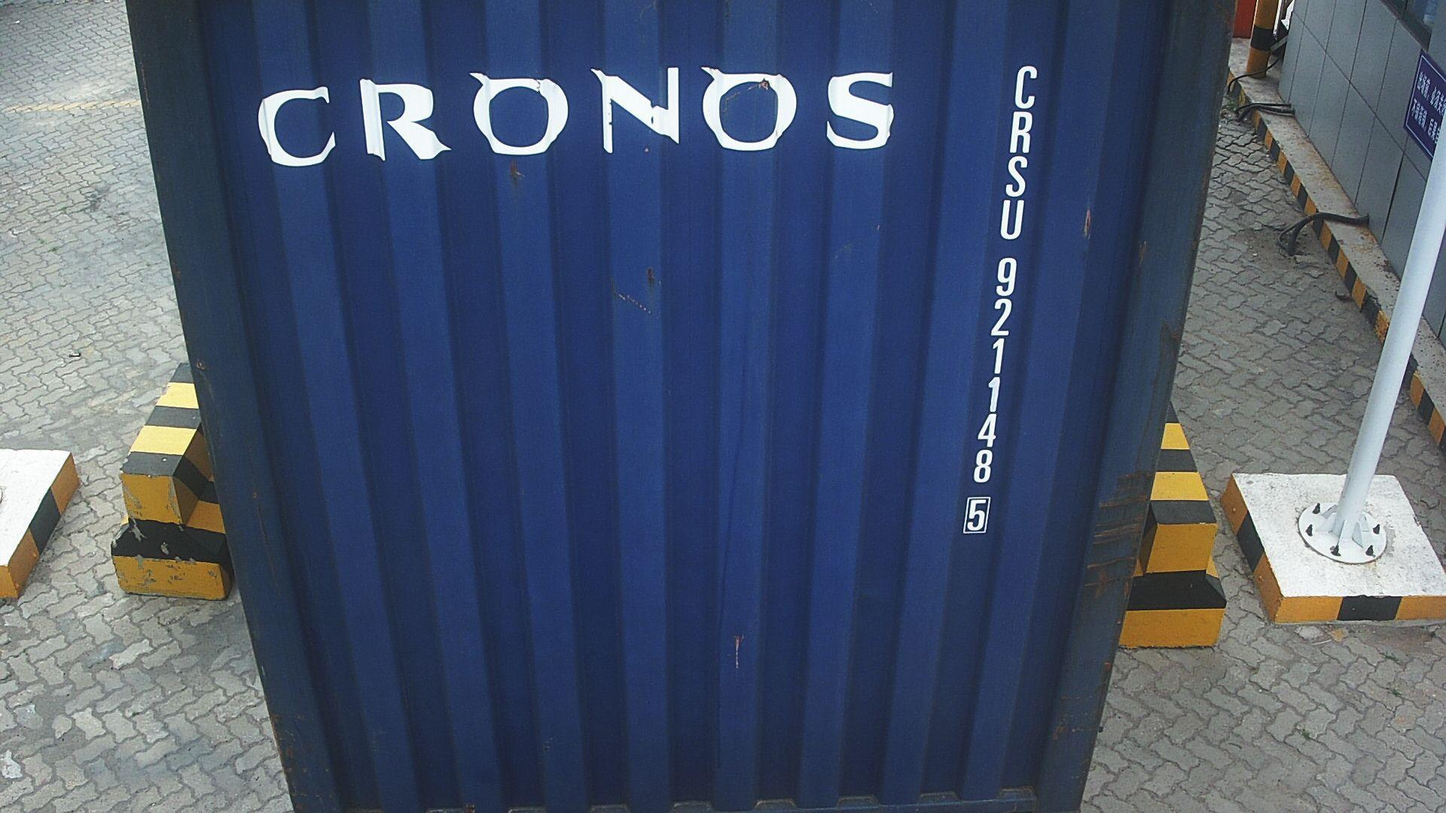container-numbers: (959, 59, 1042, 543)
